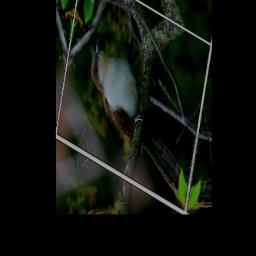Cuckoo: (79, 35, 201, 204)
